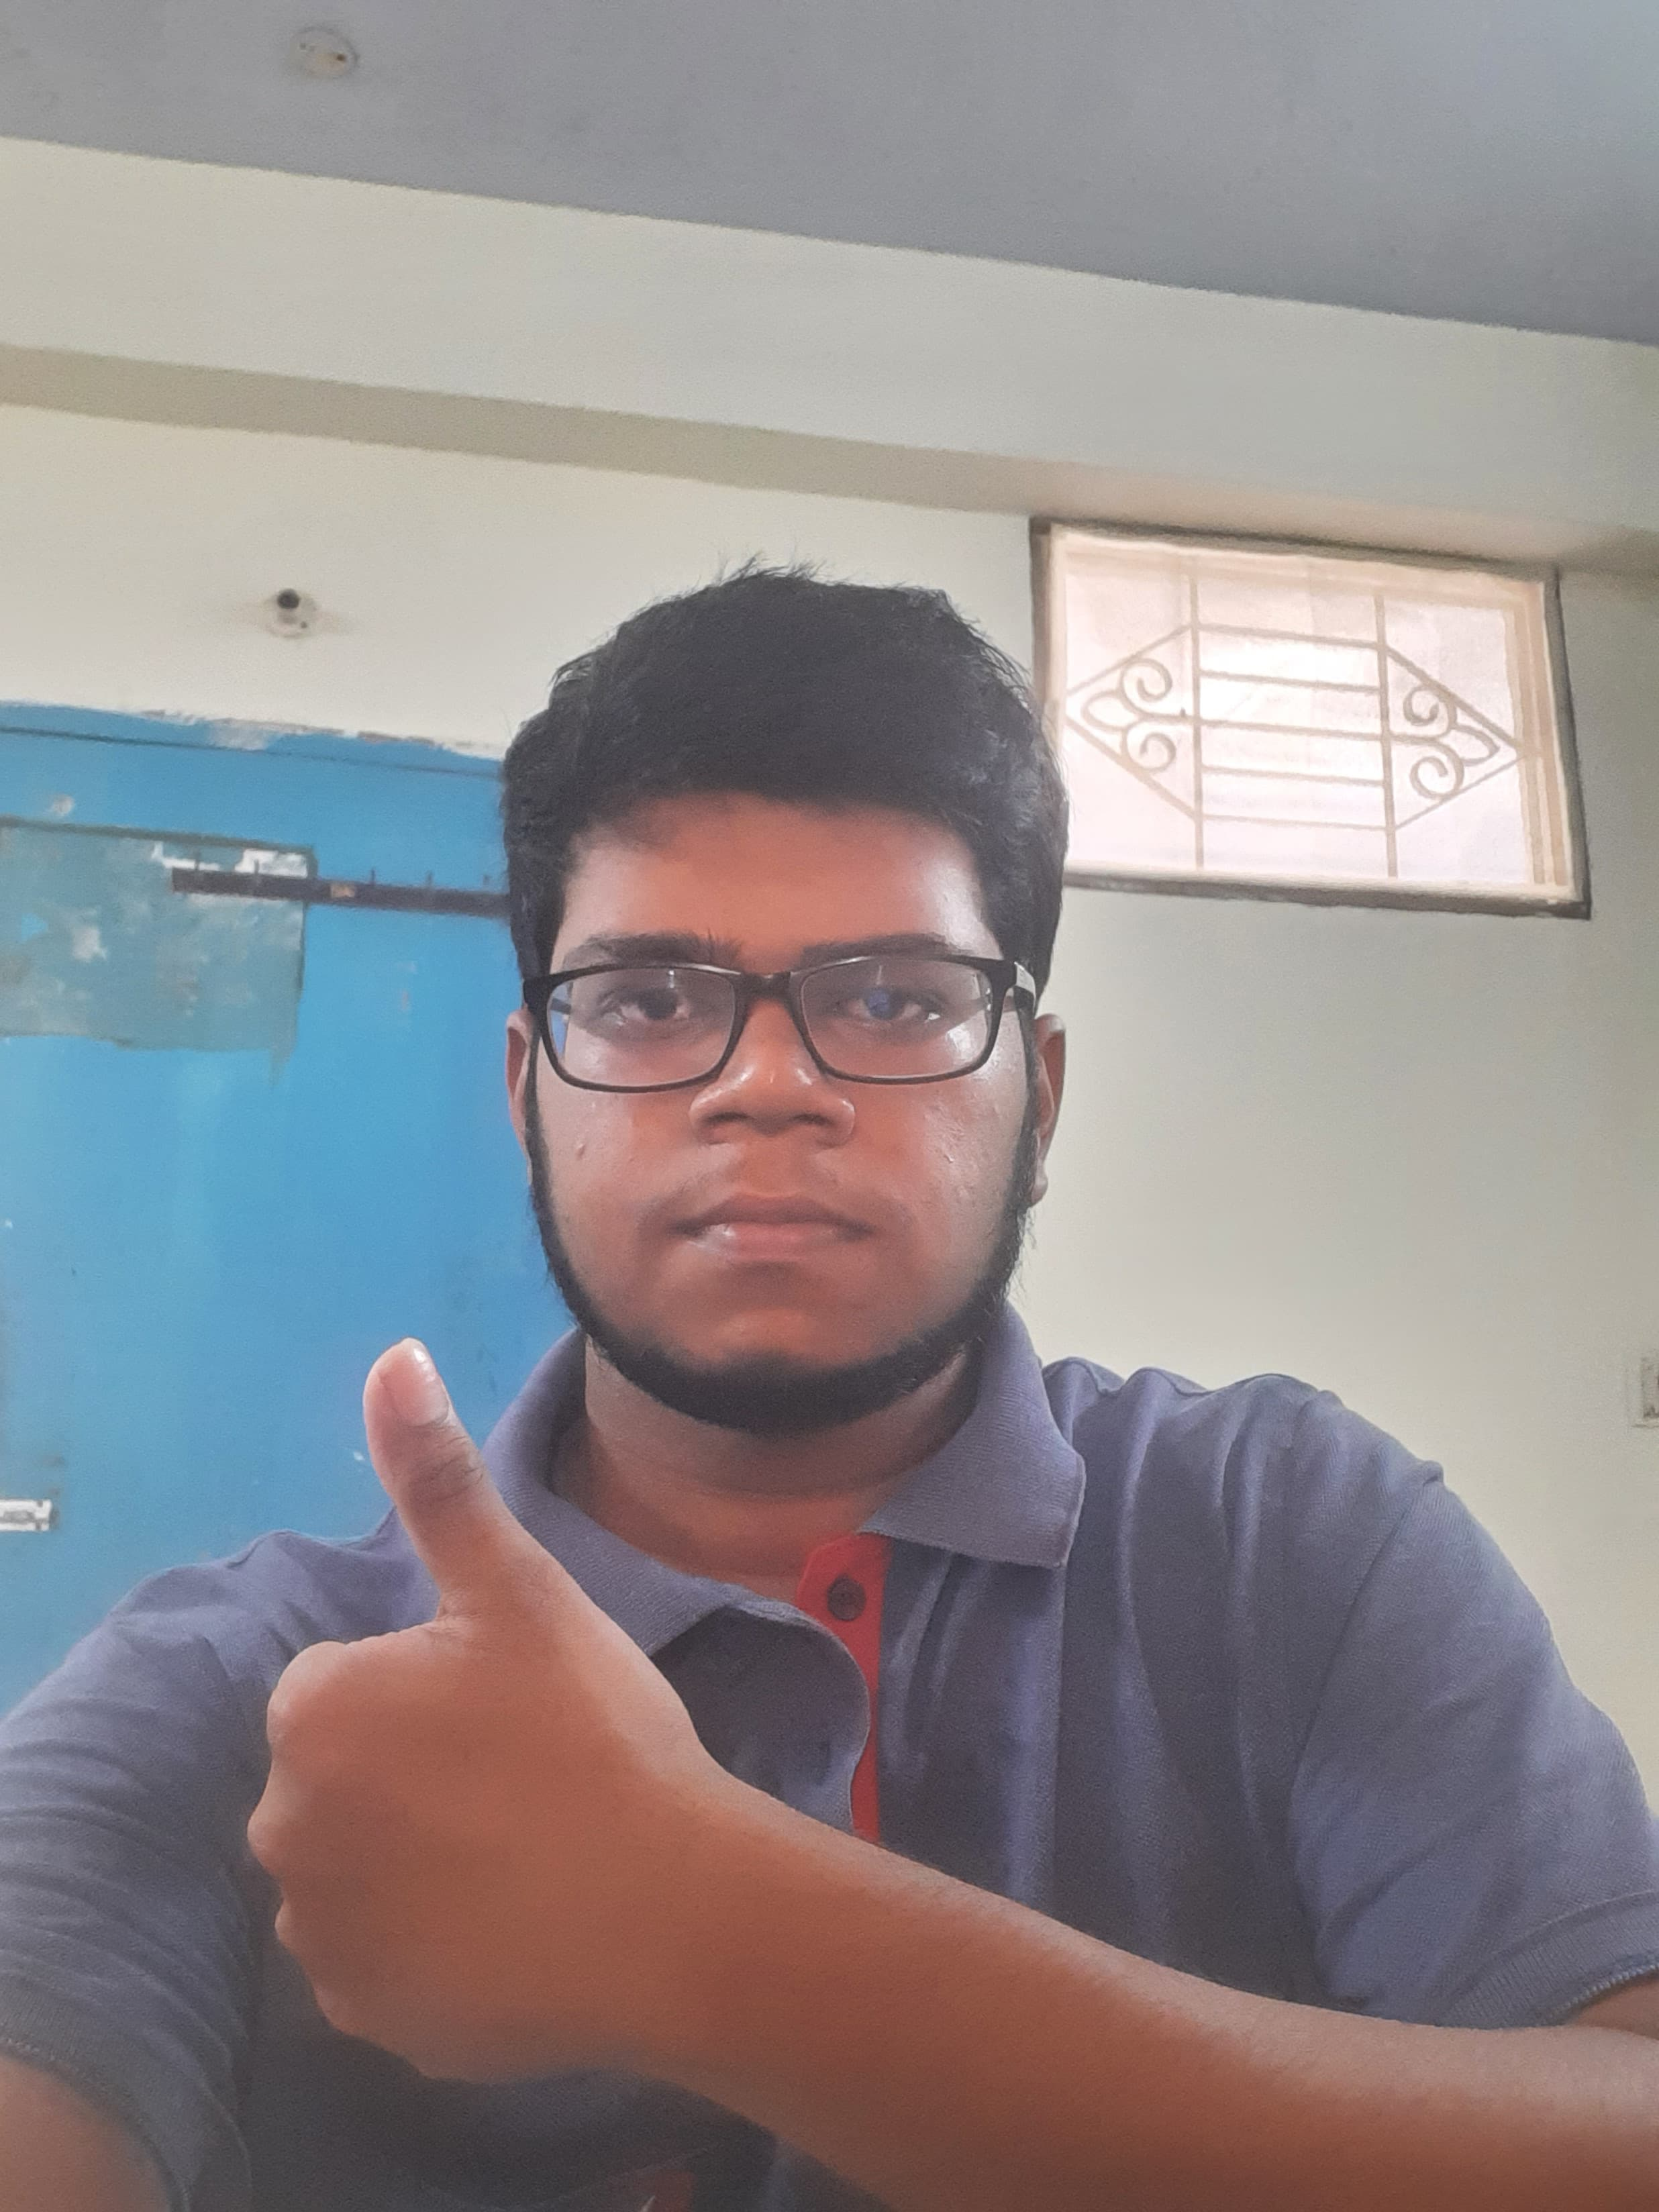ThumbsUp: (237, 1334, 694, 2085)
